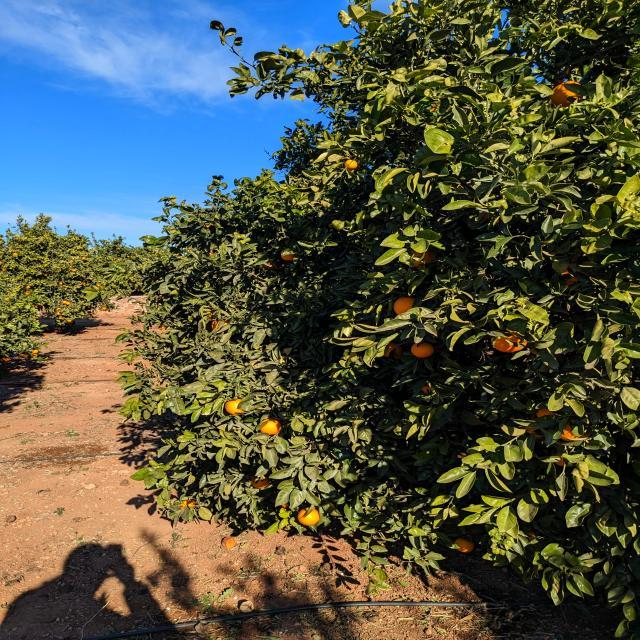Jeruk Sudah Matang: (492, 329, 528, 352), (557, 418, 593, 441), (552, 82, 584, 106), (393, 295, 415, 314), (298, 507, 320, 526), (412, 250, 435, 268), (260, 418, 282, 434), (412, 343, 434, 358), (224, 400, 246, 414), (454, 538, 474, 552), (212, 320, 232, 333), (384, 342, 402, 356), (536, 408, 560, 418), (252, 477, 272, 488), (282, 248, 295, 262), (178, 499, 196, 508), (344, 160, 358, 170), (422, 384, 432, 396), (33, 349, 39, 354)
